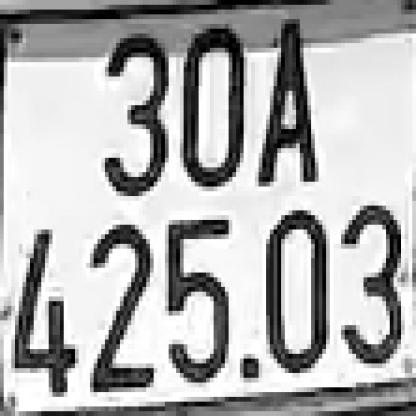0: (262, 210, 326, 368), (184, 24, 240, 191)
2: (86, 220, 158, 387)
3: (101, 38, 169, 201), (337, 206, 401, 364)
4: (11, 225, 75, 397)
5: (165, 215, 229, 378)
A: (259, 19, 322, 191)
